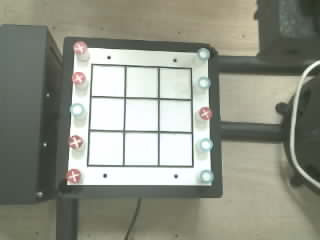blue circle: (70, 103, 85, 117), (199, 138, 212, 151), (198, 77, 211, 89), (200, 170, 213, 182), (198, 48, 209, 59)
board: (67, 42, 214, 185)
cells: (89, 132, 122, 164), (125, 133, 157, 165), (90, 98, 123, 129), (125, 99, 157, 130), (160, 134, 191, 165), (160, 100, 191, 131), (92, 66, 124, 96), (160, 68, 190, 98), (127, 67, 157, 97)
grid: (87, 64, 193, 167)
red cross: (66, 169, 80, 183), (69, 135, 83, 149), (73, 41, 87, 54), (72, 72, 85, 84), (199, 107, 212, 119)
